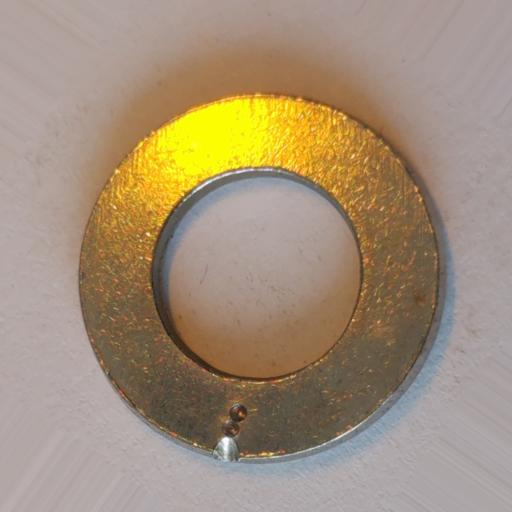circular_cavity: (213, 436, 241, 464), (229, 403, 249, 422), (222, 419, 240, 438)
